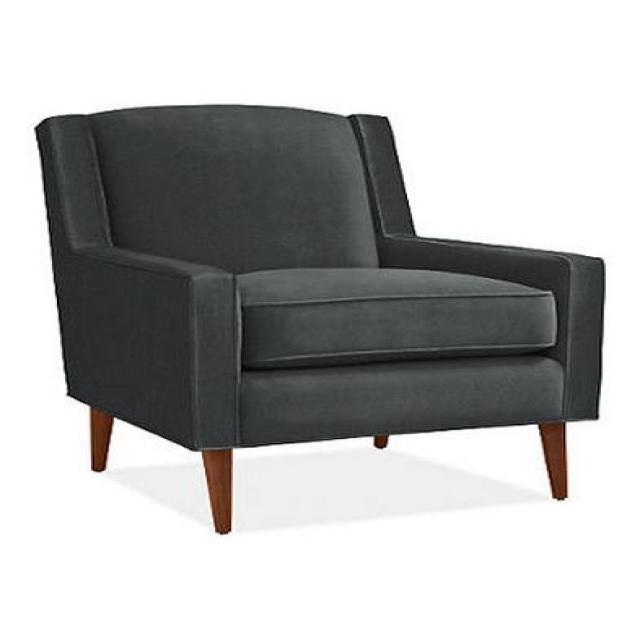chair: (35, 100, 609, 546)
